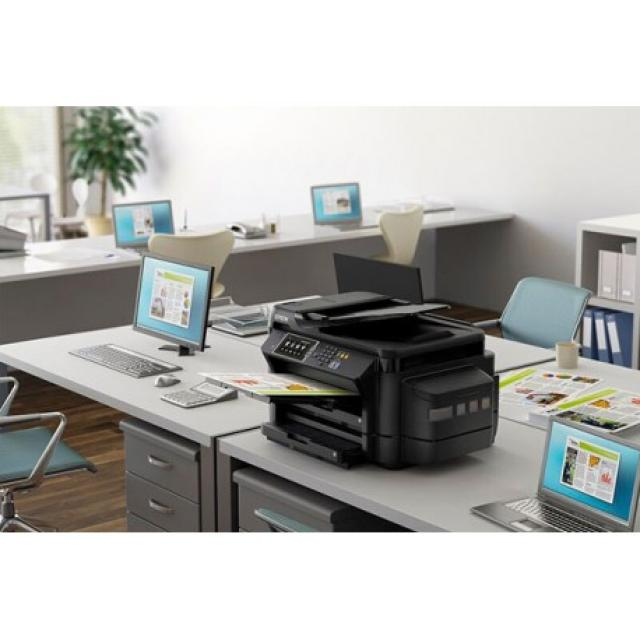printer: (258, 289, 499, 471)
